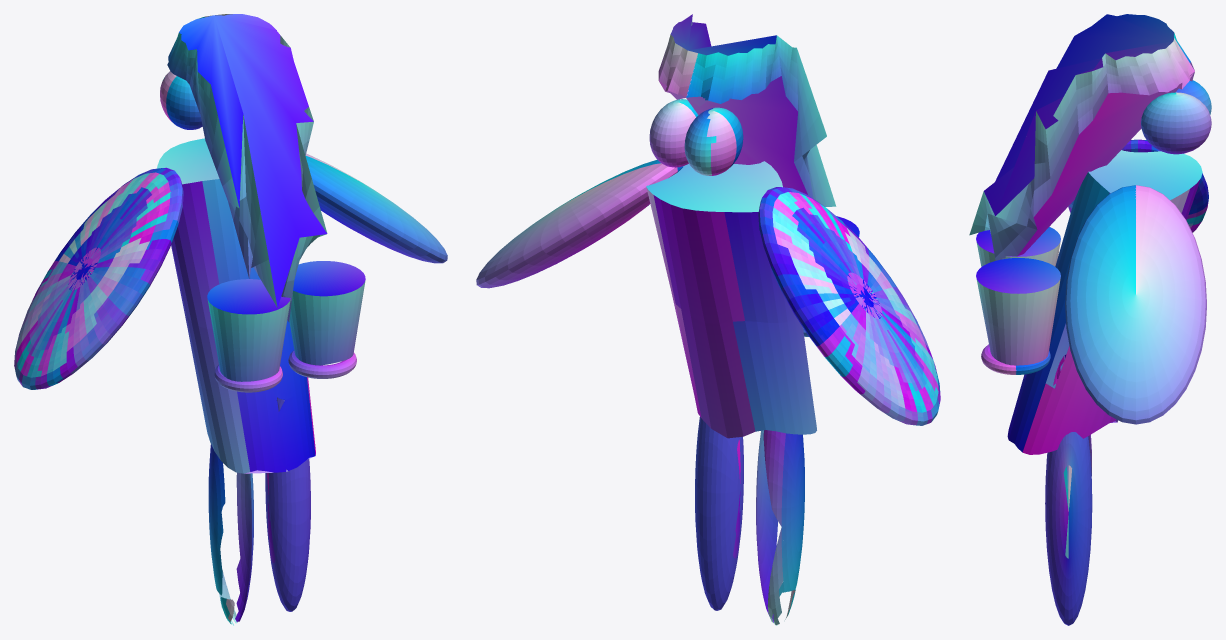
File: Rona Playermodel.fbx
The picture shows the model from 3 angles, left to right: view 1: azimuth 30°, elevation 25°; view 2: azimuth 150°, elevation 25°; view 3: azimuth 270°, elevation 25°; orthographic projection. The views are drawn at different scales.
Parts seen in each view (by area): view 1: Cylinder.021; view 2: Cylinder.021; view 3: Cylinder.021.
Part boxes in pixels (<box>): Cylinder.021: <box>14,14,447,625</box>; Cylinder.021: <box>476,14,940,625</box>; Cylinder.021: <box>969,14,1211,625</box>.
Bounding box in the file's own units: 690 × 894 × 341.
